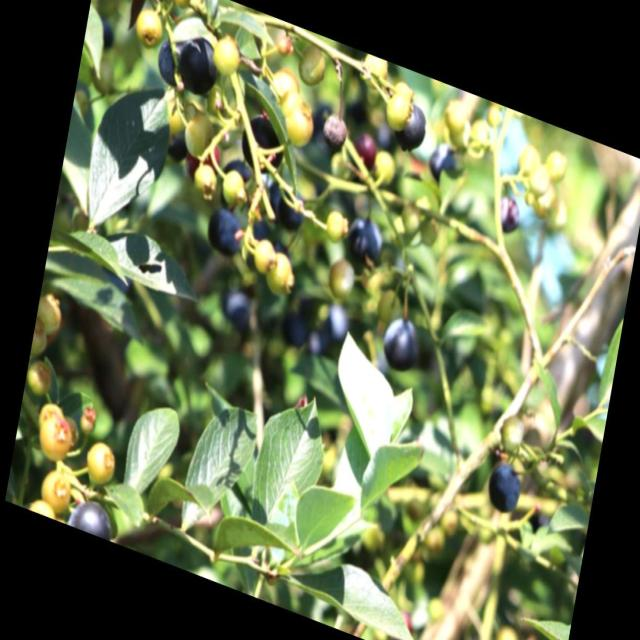blueberry: (237, 106, 290, 184), (174, 27, 224, 101), (378, 310, 425, 376), (481, 457, 526, 524), (343, 205, 387, 272), (67, 486, 117, 540), (204, 199, 247, 259), (215, 152, 256, 202), (423, 136, 462, 187), (392, 99, 428, 153), (150, 35, 183, 88), (273, 184, 306, 234)
blueberry-unripe: (32, 400, 72, 464), (78, 434, 118, 494), (380, 76, 417, 136), (292, 41, 332, 93), (179, 102, 213, 161), (37, 461, 73, 516), (279, 97, 317, 148), (262, 245, 297, 299), (209, 28, 245, 78), (495, 407, 529, 456), (322, 252, 354, 304), (130, 2, 163, 52), (265, 61, 299, 107), (355, 50, 392, 91), (23, 351, 54, 397), (34, 288, 64, 334), (189, 154, 218, 201), (160, 88, 187, 134), (321, 202, 348, 243), (525, 162, 552, 199), (254, 233, 277, 274), (544, 148, 568, 185), (30, 316, 49, 355), (516, 146, 537, 174)
